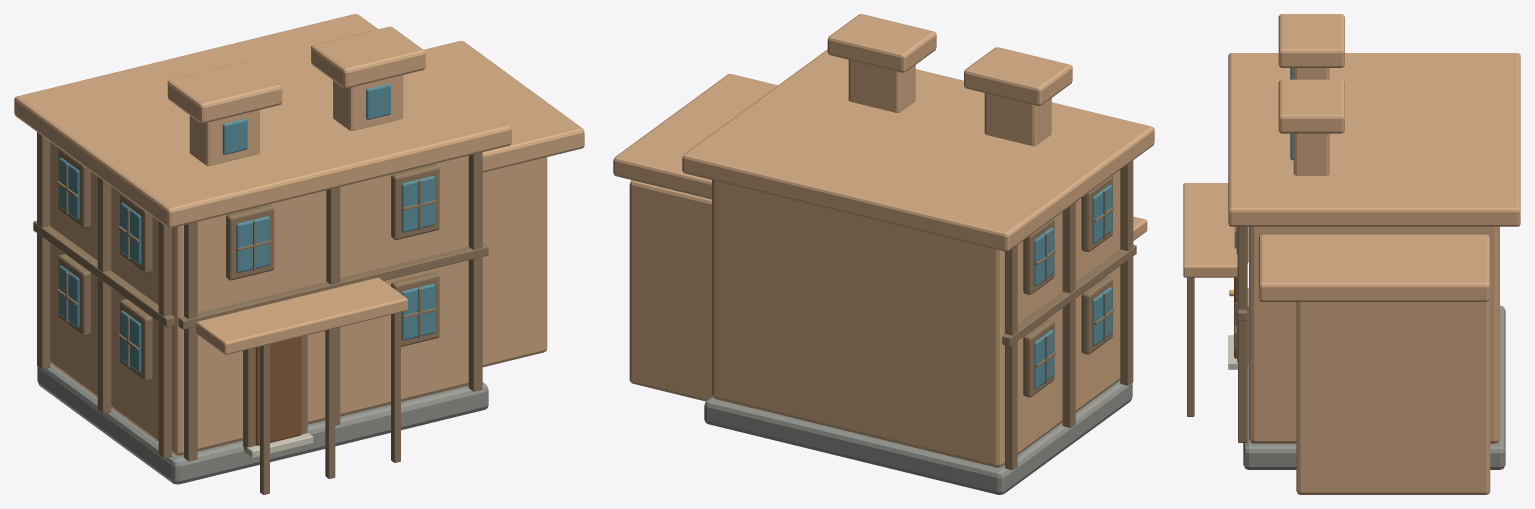
Rendered from arid-townhouse-2.glb.
3 views of the same model, side by side, from view 1: azimuth 30°, elevation 25°; view 2: azimuth 150°, elevation 25°; view 3: azimuth 270°, elevation 25° (orthographic). The views are drawn at different scales.
Parts seen in each view (by area): view 1: Adobe cream, Palm beams, Foundation stone, Blue glass, Adobe wood, Door oak, Cut limestone; view 2: Adobe cream, Palm beams, Foundation stone, Blue glass; view 3: Adobe cream, Adobe wood, Palm beams, Foundation stone.
Part boxes in pixels (x1=…): Adobe cream: x1=14, y1=14, x2=584, y2=455; Palm beams: x1=33, y1=132, x2=488, y2=494; Foundation stone: x1=37, y1=363, x2=488, y2=484; Blue glass: x1=59, y1=83, x2=434, y2=372; Adobe wood: x1=196, y1=277, x2=407, y2=354; Door oak: x1=255, y1=336, x2=301, y2=445; Cut limestone: x1=242, y1=433, x2=313, y2=458; Adobe cream: x1=613, y1=14, x2=1154, y2=467; Palm beams: x1=1002, y1=160, x2=1136, y2=470; Foundation stone: x1=704, y1=380, x2=1132, y2=494; Blue glass: x1=1034, y1=184, x2=1112, y2=388; Adobe cream: x1=1228, y1=14, x2=1520, y2=494; Adobe wood: x1=1183, y1=183, x2=1237, y2=277; Palm beams: x1=1187, y1=226, x2=1248, y2=442; Foundation stone: x1=1243, y1=305, x2=1505, y2=469.
Bounding box in the file's own units: 4.96 × 3.91 × 3.57.
